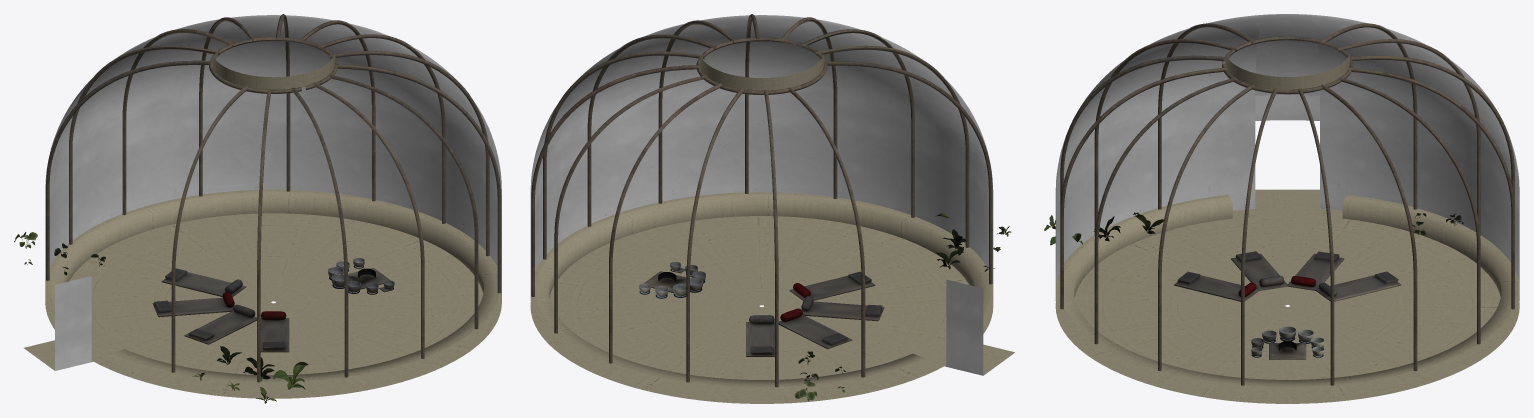
The model's file is room.gltf.
The picture shows the model from 3 angles, left to right: view 1: azimuth 30°, elevation 25°; view 2: azimuth 150°, elevation 25°; view 3: azimuth 270°, elevation 25°; orthographic projection.
Visible parts, largest first — view 1: shell_concrete_w, shell_lime, shell_beam, prop_linen, prop_herring, prop_quartz; view 2: shell_concrete_w, shell_lime, shell_beam, prop_linen, prop_herring, prop_quartz; view 3: shell_concrete_w, shell_lime, shell_beam, prop_linen, prop_herring, prop_quartz.
Part boxes in pixels (x1,y1,x2,y2): shell_concrete_w: [24, 52, 501, 398]; shell_lime: [45, 15, 501, 370]; shell_beam: [46, 14, 501, 382]; prop_linen: [152, 268, 392, 352]; prop_herring: [154, 268, 285, 350]; prop_quartz: [328, 258, 394, 292]; shell_concrete_w: [530, 52, 1014, 403]; shell_lime: [530, 15, 993, 375]; shell_beam: [531, 14, 992, 387]; prop_linen: [644, 268, 884, 356]; prop_herring: [749, 271, 882, 354]; prop_quartz: [639, 261, 705, 296]; shell_concrete_w: [1055, 52, 1519, 403]; shell_lime: [1055, 14, 1519, 301]; shell_beam: [1060, 23, 1514, 385]; prop_linen: [1174, 253, 1401, 359]; prop_herring: [1177, 251, 1398, 296]; prop_quartz: [1251, 326, 1324, 356].
Size of the model in its own units: 11.8 by 6.55 by 11.06.
Materials: 10 (10 with a texture image).
